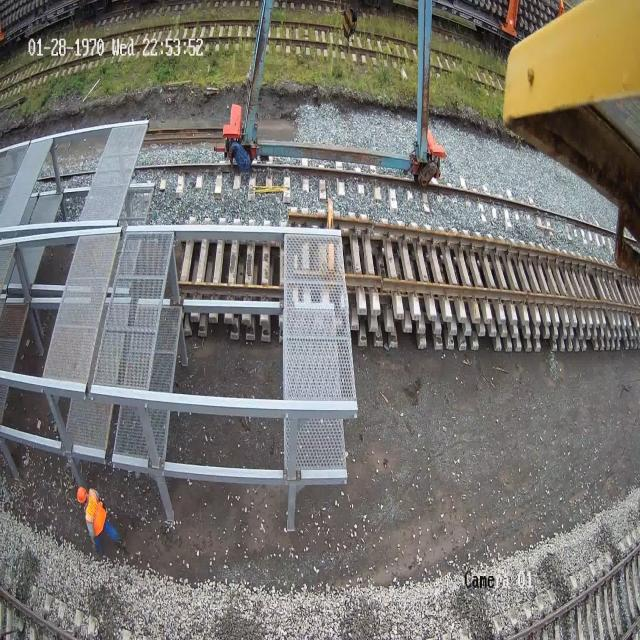Helmet: (76, 486, 86, 504)
Person: (76, 486, 126, 558)
